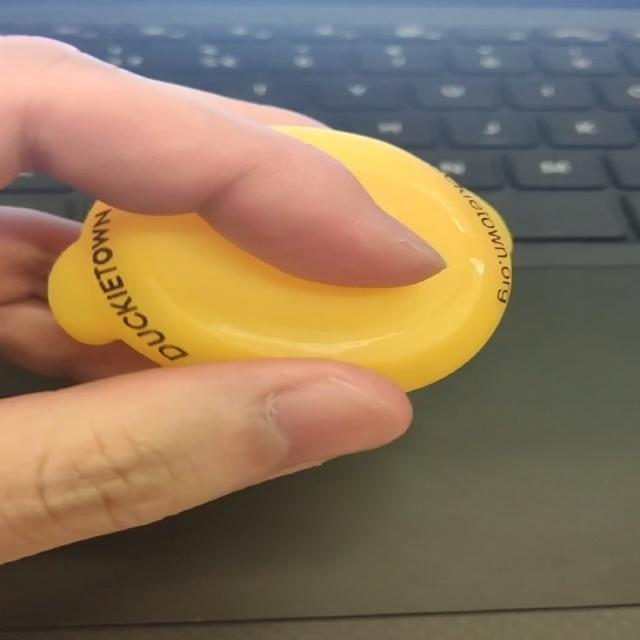rubber-duck: (48, 125, 510, 388)
